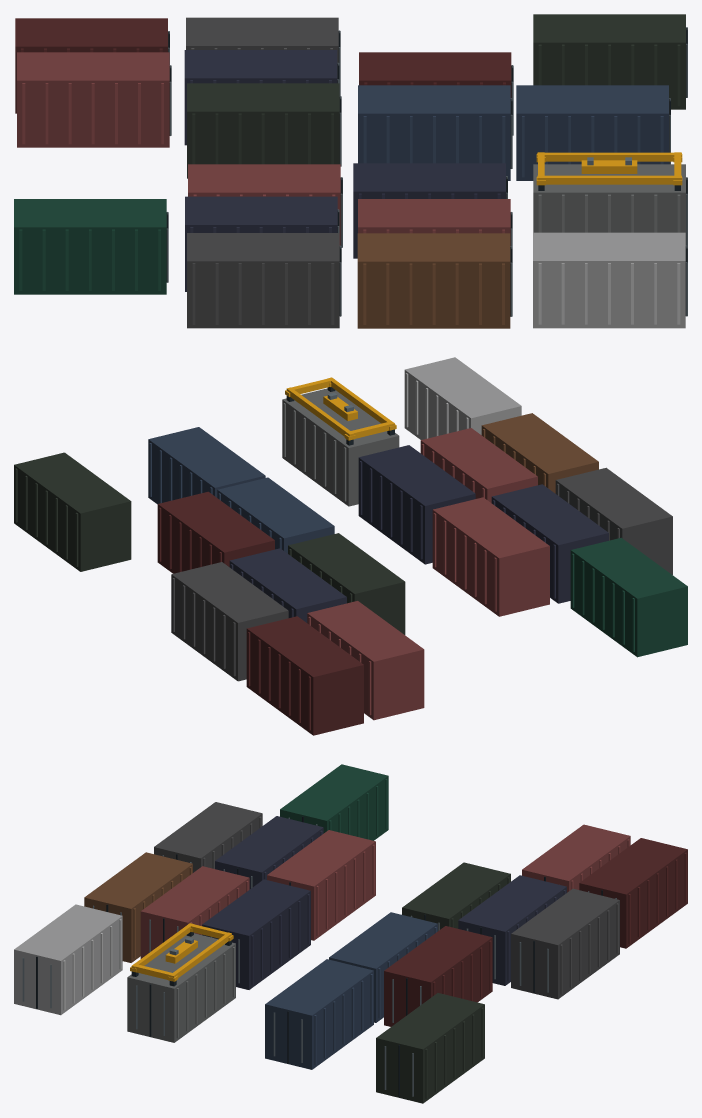
The model's file is SeaportSystem-01-Container-01-20Footer-3-07.glb.
3 views of the same model, one above another, from view 1: azimuth 30°, elevation 25°; view 2: azimuth 150°, elevation 25°; view 3: azimuth 270°, elevation 25° (orthographic). The views are drawn at different scales.
Visible parts, largest first — view 1: SeaportSystem-01-Container-01-20Footer-3-07; view 2: SeaportSystem-01-Container-01-20Footer-3-07; view 3: SeaportSystem-01-Container-01-20Footer-3-07.
Part boxes in pixels (bbox=[...]): SeaportSystem-01-Container-01-20Footer-3-07: bbox=[14, 14, 687, 328]; SeaportSystem-01-Container-01-20Footer-3-07: bbox=[14, 357, 687, 735]; SeaportSystem-01-Container-01-20Footer-3-07: bbox=[14, 764, 687, 1103].
Bounding box in the file's own units: 72.12 × 8.25 × 72.03.
